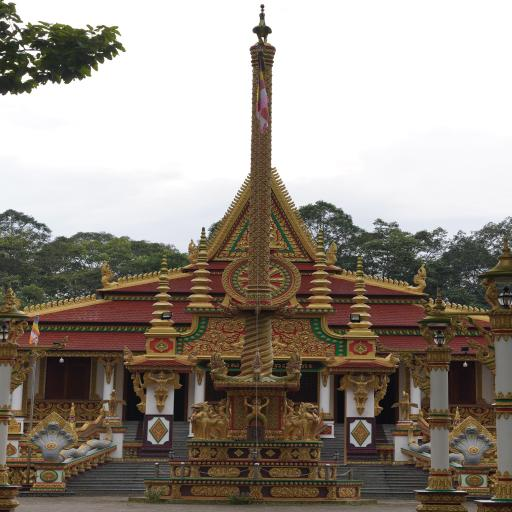ran: (406, 414, 498, 468), (26, 409, 118, 462), (266, 348, 306, 382), (68, 401, 108, 434), (209, 348, 239, 383), (465, 337, 496, 362), (407, 264, 432, 292), (9, 363, 39, 384), (250, 346, 267, 383), (100, 259, 120, 289), (320, 239, 342, 265), (408, 367, 430, 390), (120, 345, 148, 362), (184, 238, 200, 264), (322, 346, 343, 365), (182, 346, 200, 365), (377, 352, 403, 365), (10, 288, 24, 312), (452, 406, 463, 430)
than: (332, 372, 383, 418), (138, 369, 188, 413), (126, 370, 153, 413), (372, 374, 396, 418), (243, 395, 275, 428), (97, 356, 123, 386), (407, 357, 428, 387), (215, 396, 234, 426), (76, 401, 103, 421), (280, 397, 296, 428), (29, 402, 55, 420), (54, 400, 76, 421), (444, 406, 465, 426), (17, 467, 38, 486), (470, 406, 490, 425), (486, 473, 501, 493), (6, 445, 14, 455)
